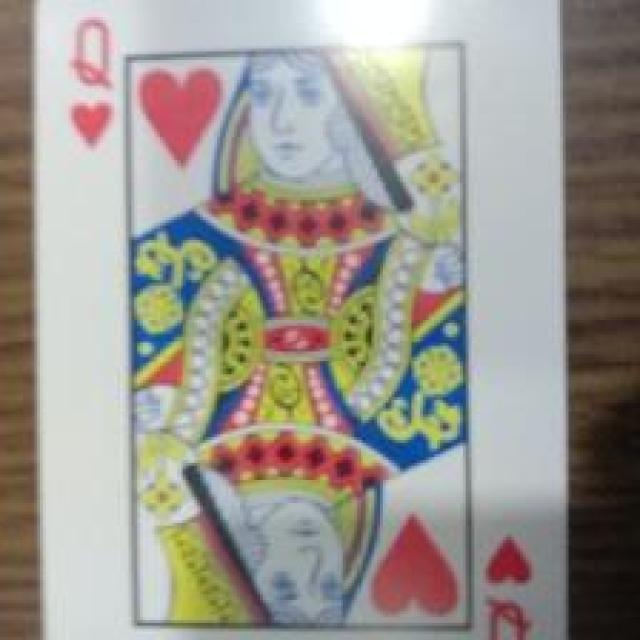Queen of hearts: (35, 1, 566, 640)
